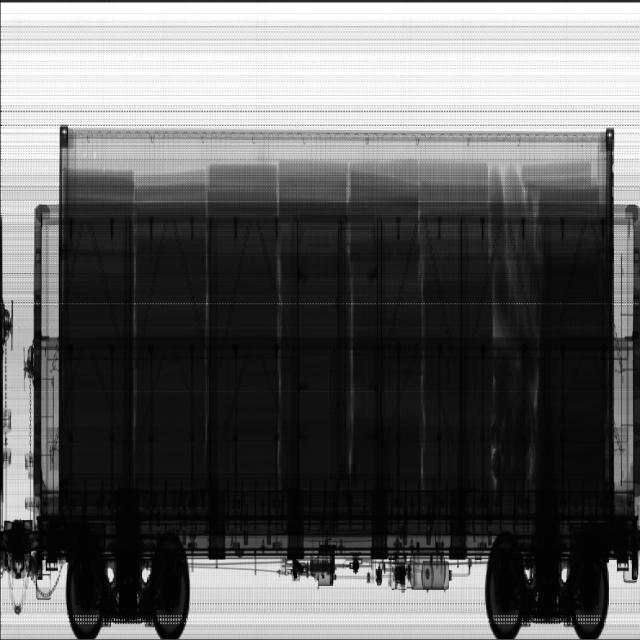fabrics: (61, 160, 610, 498)
